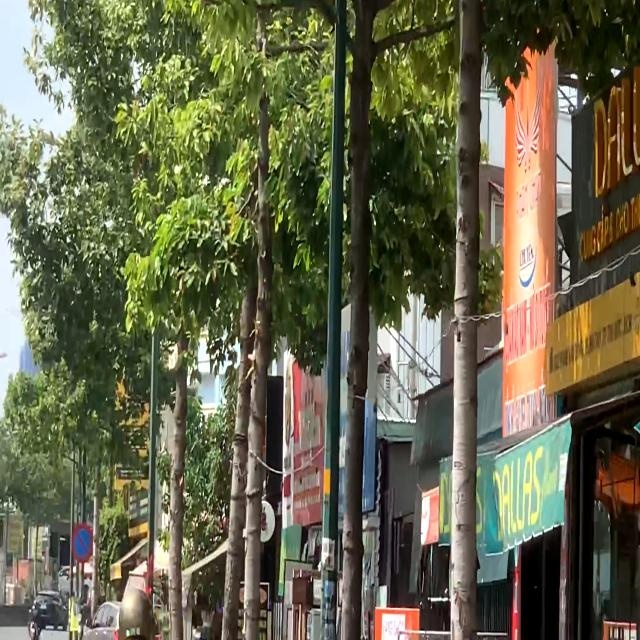bien_cam: (72, 523, 93, 563)
